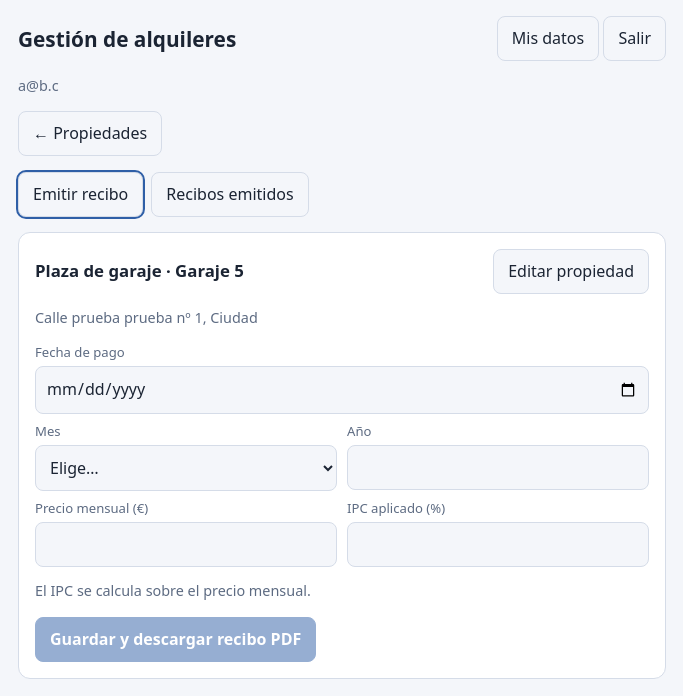
Scenario: la plaza de garaje separa emisión e historial en pestañas
Expected: the number field labelled "Precio mensual (€)" is shown, [35,522,337,567]
Click the button "Recibos emitidos": (230, 195) [151,172,309,217]
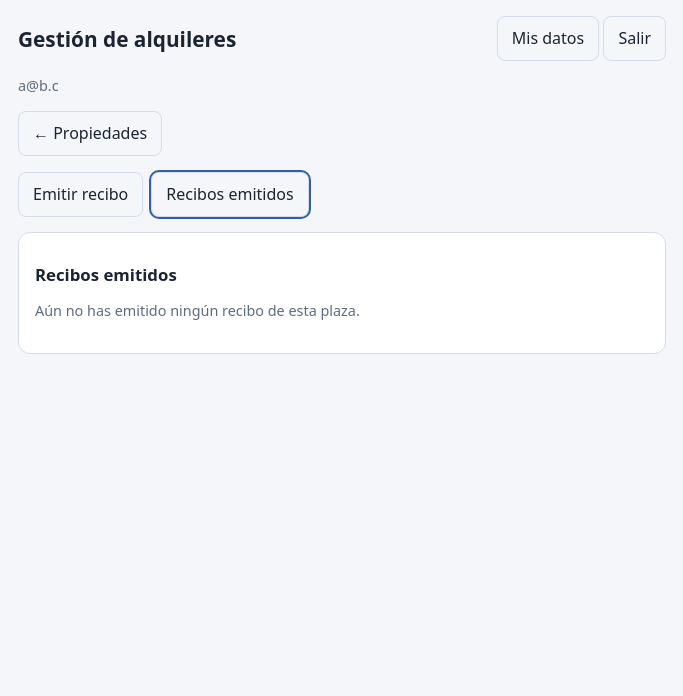
Expected: the text "Aún no has emitido ningún recibo de esta plaza." is shown, [35,301,360,320]
Expected: the label labelled "Precio mensual (€)" is gone
